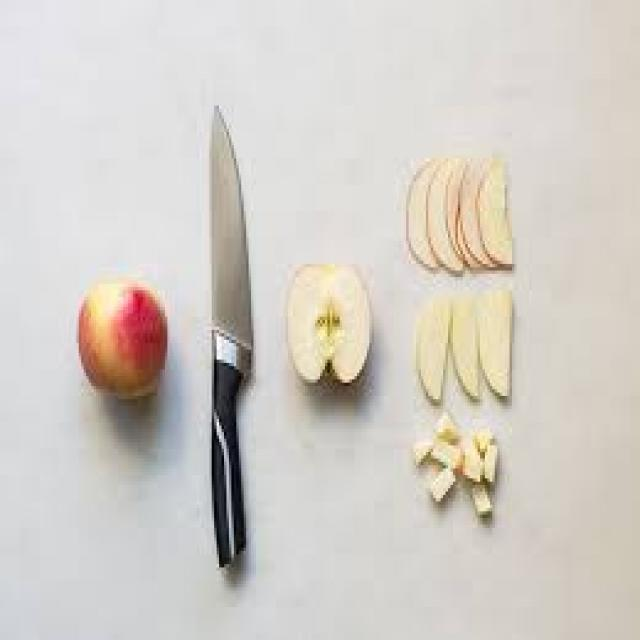Apple: (76, 276, 174, 399), (290, 259, 375, 388), (400, 158, 437, 285), (477, 164, 522, 266), (416, 289, 452, 406), (427, 160, 459, 272), (452, 292, 484, 401), (479, 293, 512, 396), (457, 170, 483, 270)
